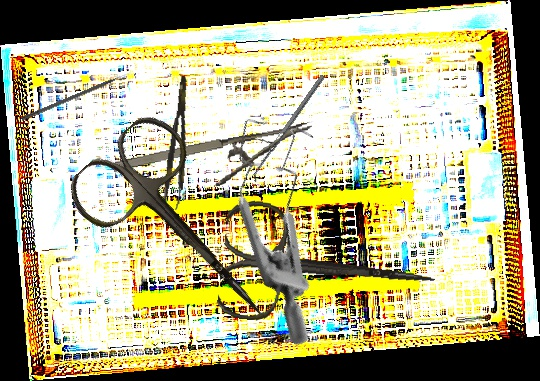Hook Surgical: (20, 70, 133, 123)
Iris Scissors: (59, 104, 307, 360), (215, 197, 442, 342)
Needle Holder: (111, 121, 320, 204)
Spatula Surgical: (248, 74, 330, 184)
Speculum: (164, 92, 411, 349)
Tissue Forceps: (160, 75, 199, 211)
